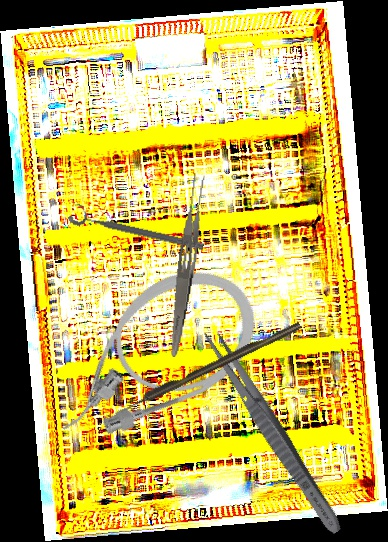Cannula: (23, 246, 278, 464)
Dressing Forceps: (196, 324, 349, 539), (166, 172, 209, 359)
Fixation Ring: (67, 200, 207, 255)
Hook Surgical: (117, 320, 303, 415)
